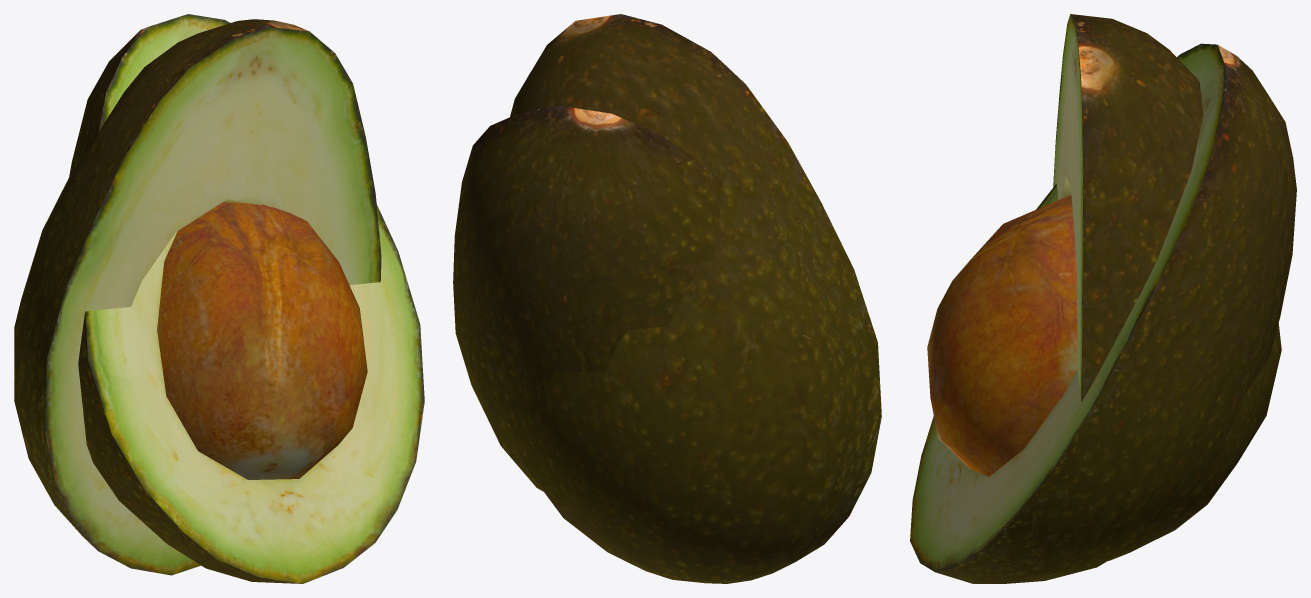
File: HavocadoComet.fbx
The picture shows the model from 3 angles, left to right: view 1: azimuth 30°, elevation 25°; view 2: azimuth 150°, elevation 25°; view 3: azimuth 270°, elevation 25°; orthographic projection. The views are drawn at different scales.
Visible parts, largest first — view 1: AvocadoHalf01, AvocadoHalf02; view 2: AvocadoHalf02, AvocadoHalf01; view 3: AvocadoHalf01, AvocadoHalf02.
Part boxes in pixels (bbox=[...]): AvocadoHalf01: bbox=[68, 14, 424, 583]; AvocadoHalf02: bbox=[14, 19, 381, 575]; AvocadoHalf02: bbox=[500, 14, 881, 583]; AvocadoHalf01: bbox=[453, 106, 722, 491]; AvocadoHalf01: bbox=[910, 43, 1296, 583]; AvocadoHalf02: bbox=[1053, 14, 1281, 560].
Bounding box in the file's own units: 17.94 × 23.32 × 14.73.
Materials: 1 (1 with a texture image).
